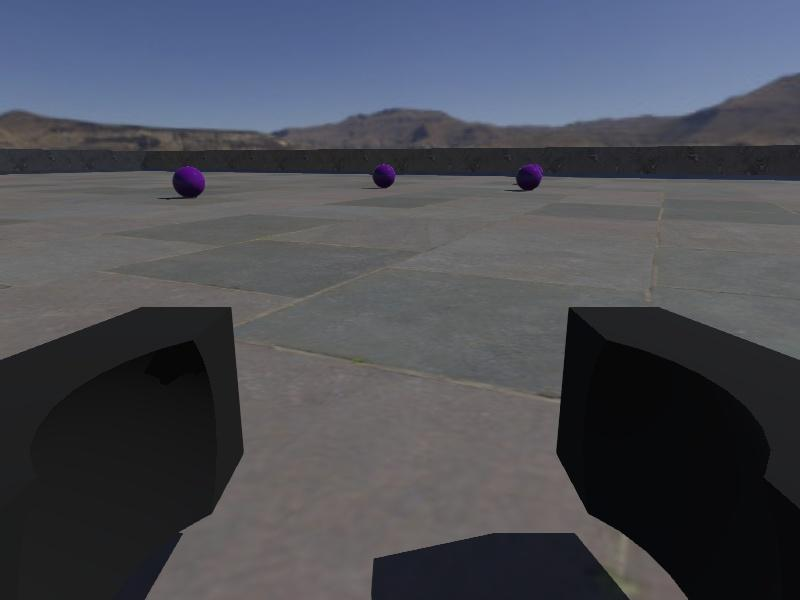violet ball: (173, 166, 205, 198), (517, 165, 542, 191), (373, 164, 397, 188)
